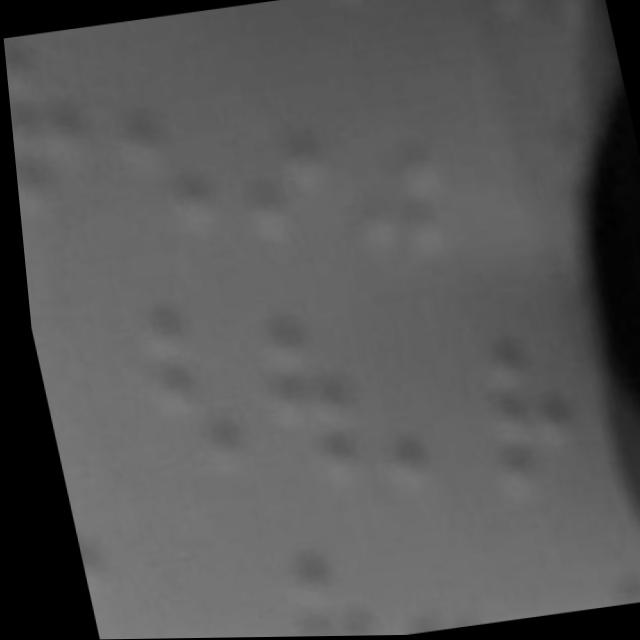braiile: (96, 40, 230, 251), (205, 49, 336, 246), (326, 70, 451, 269), (458, 305, 581, 503), (347, 316, 466, 504), (127, 290, 244, 474), (243, 312, 360, 490), (2, 28, 106, 220), (364, 545, 475, 636), (268, 540, 372, 637)
